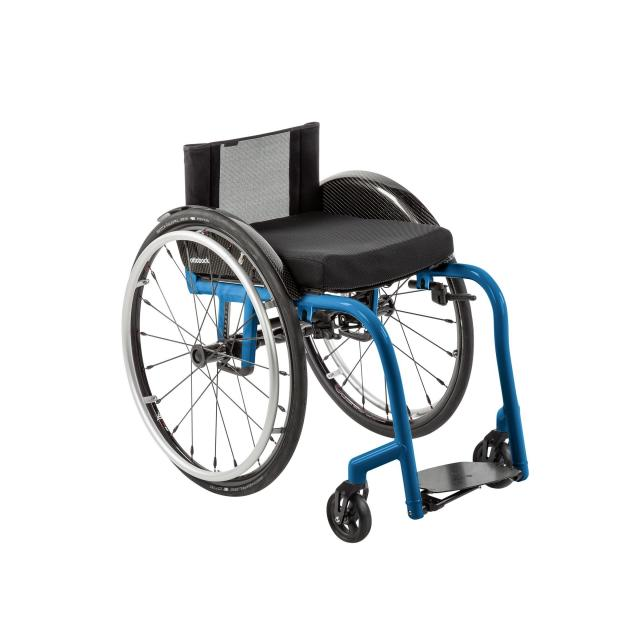wheelchair: (110, 64, 574, 591)
